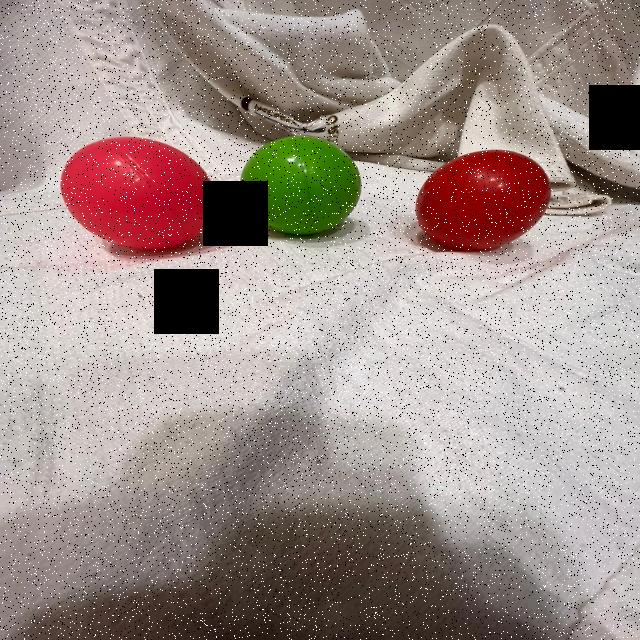ball: (58, 134, 220, 252), (412, 147, 555, 252), (235, 133, 365, 236)
